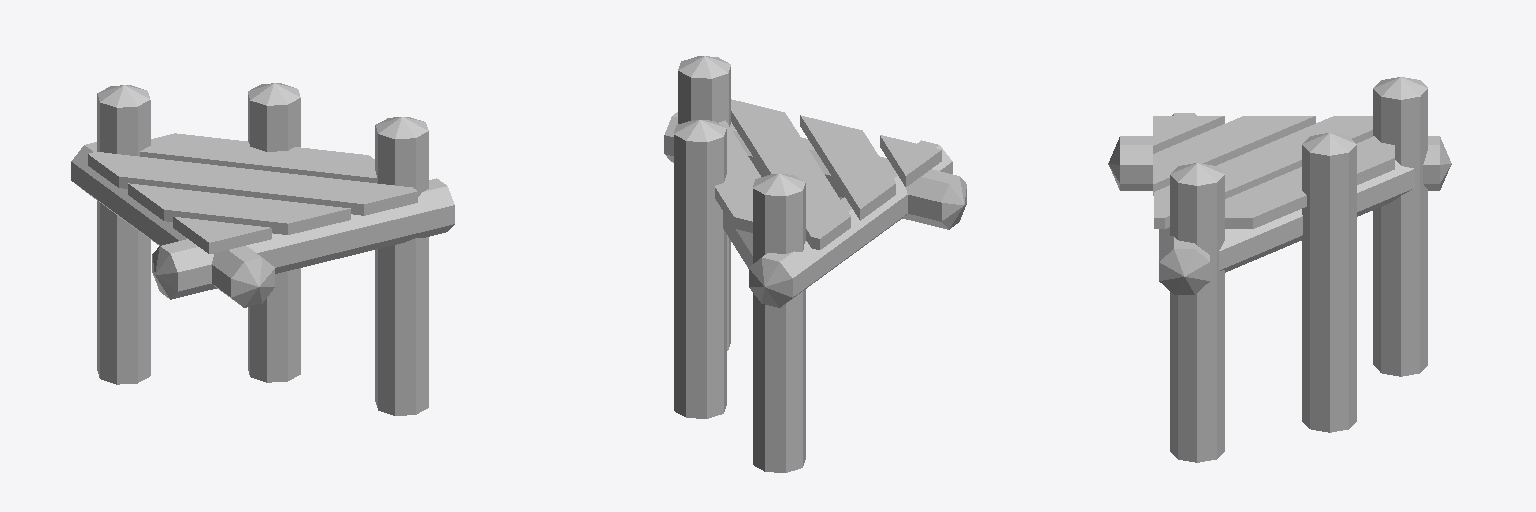
File: Prop_Docks_Corner.obj
3 views of the same model, side by side, from view 1: azimuth 30°, elevation 25°; view 2: azimuth 150°, elevation 25°; view 3: azimuth 270°, elevation 25° (orthographic).
Visible parts, largest first — view 1: object6, object8, object10, object3, object7, object9, object2, object4, object1; view 2: object7, object8, object3, object9, object2, object10, object6, object4, object1, object5; view 3: object7, object6, object8, object3, object2, object5, object4, object9, object10, object1.
Part boxes in pixels (bbox=[...]): object6: bbox=[375, 117, 428, 415]; object8: bbox=[97, 85, 150, 384]; object10: bbox=[152, 178, 454, 299]; object3: bbox=[88, 152, 417, 215]; object7: bbox=[248, 83, 300, 382]; object9: bbox=[71, 142, 274, 307]; object2: bbox=[128, 183, 350, 234]; object4: bbox=[140, 133, 377, 183]; object1: bbox=[173, 217, 271, 253]; object7: bbox=[674, 120, 726, 418]; object8: bbox=[753, 174, 805, 472]; object3: bbox=[731, 99, 850, 249]; object9: bbox=[749, 140, 952, 307]; object2: bbox=[800, 115, 895, 220]; object10: bbox=[664, 112, 966, 229]; object6: bbox=[678, 56, 730, 350]; object4: bbox=[715, 120, 760, 232]; object1: bbox=[880, 135, 941, 186]; object5: bbox=[723, 212, 752, 268]; object7: bbox=[1302, 133, 1356, 432]; object6: bbox=[1170, 163, 1224, 462]; object8: bbox=[1373, 77, 1427, 376]; object3: bbox=[1154, 116, 1372, 228]; object2: bbox=[1153, 116, 1315, 195]; object5: bbox=[1219, 160, 1414, 272]; object4: bbox=[1225, 136, 1394, 228]; object9: bbox=[1108, 136, 1451, 190]; object10: bbox=[1159, 113, 1209, 294]; object1: bbox=[1153, 116, 1224, 153].
Size of the model in its own units: 1.35 by 1.25 by 1.35.